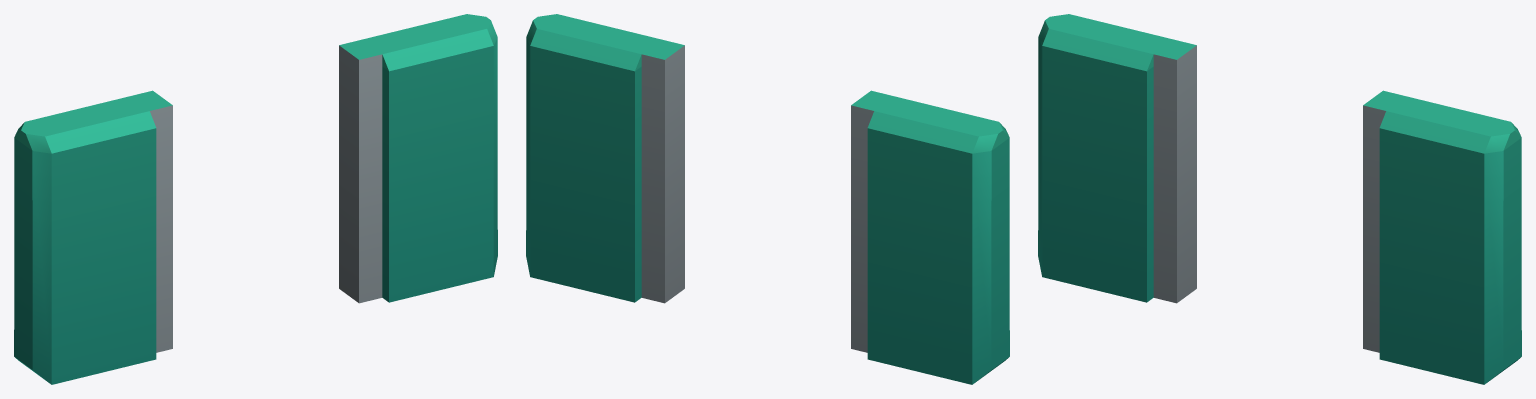
File: wall_doorway_low.gltf
3 views of the same model, side by side, from view 1: azimuth 30°, elevation 25°; view 2: azimuth 150°, elevation 25°; view 3: azimuth 330°, elevation 25° (orthographic).
Visible parts, largest first — view 1: wall_doorway_low; view 2: wall_doorway_low; view 3: wall_doorway_low.
Boxes of the visible parts, bbox=[...] form: wall_doorway_low: bbox=[14, 14, 497, 384]; wall_doorway_low: bbox=[526, 14, 1009, 384]; wall_doorway_low: bbox=[1038, 14, 1521, 384].
Bounding box in the file's own units: 4 × 2 × 0.5.
Materials: 1 (1 with a texture image).
